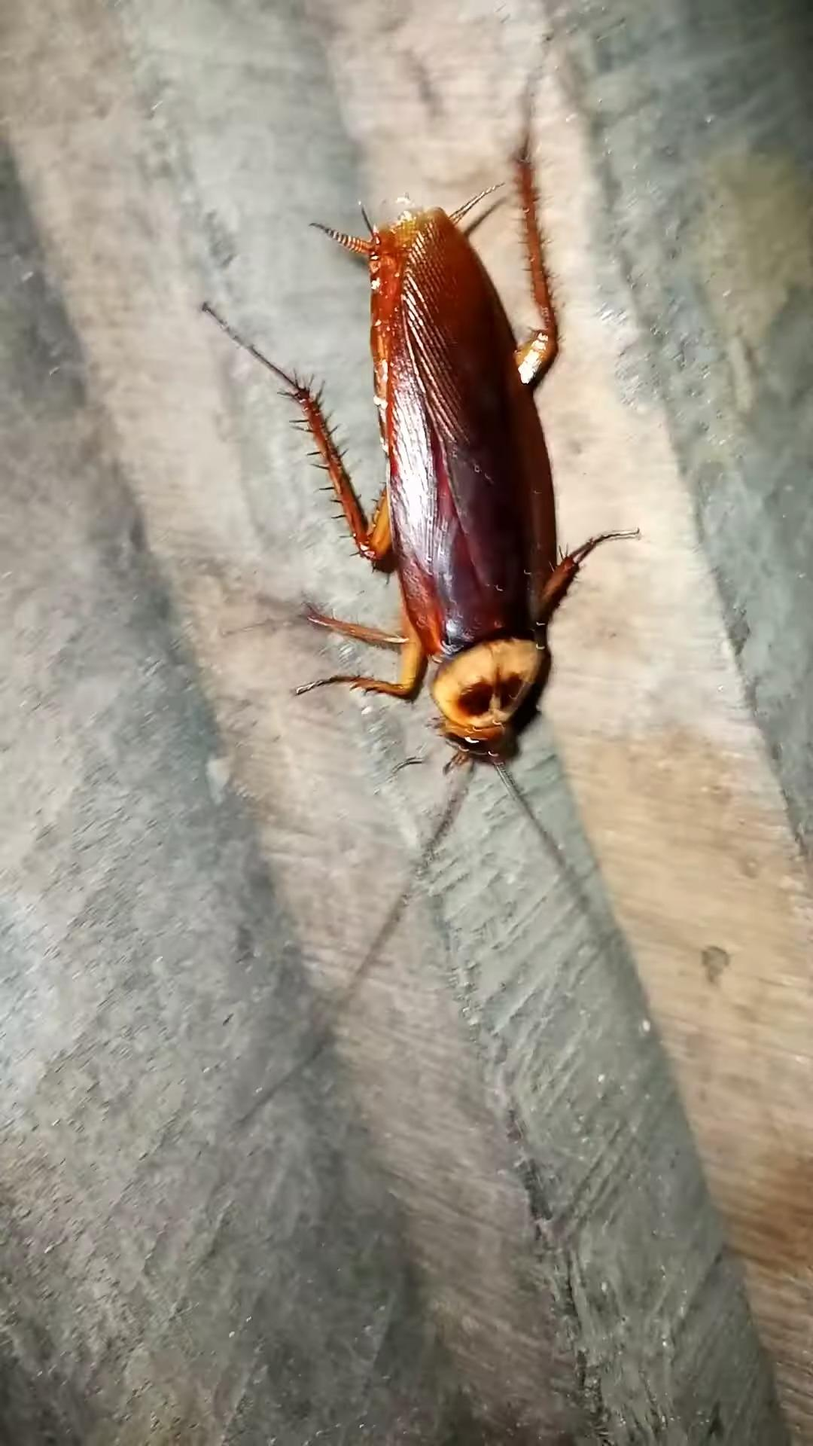cockroach: (187, 172, 622, 856)
